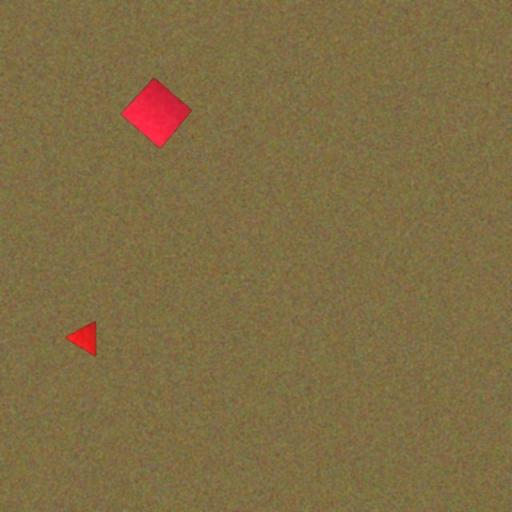RED_SQUARE: (120, 76, 193, 150)
